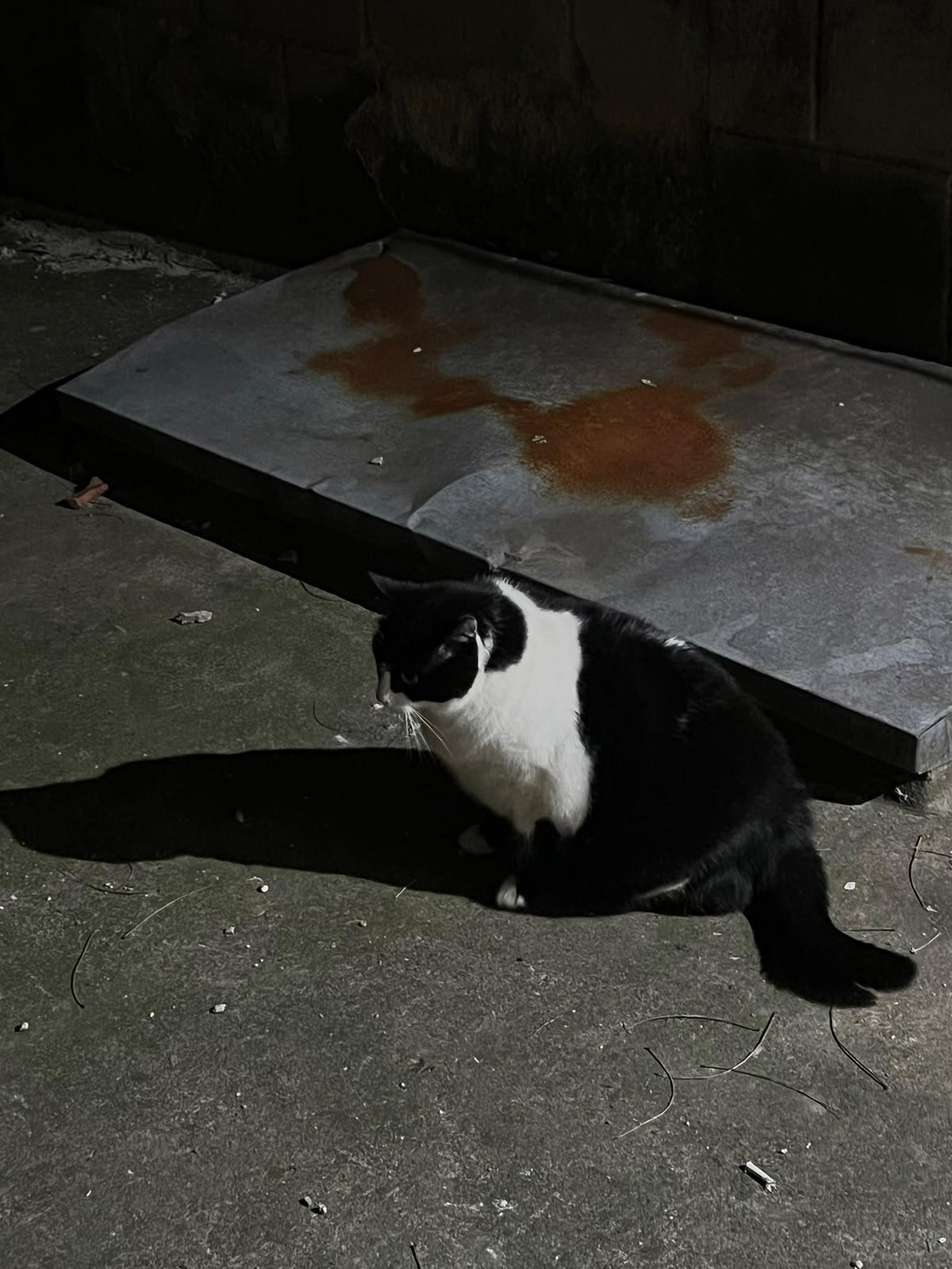macka: (371, 559, 915, 995)
